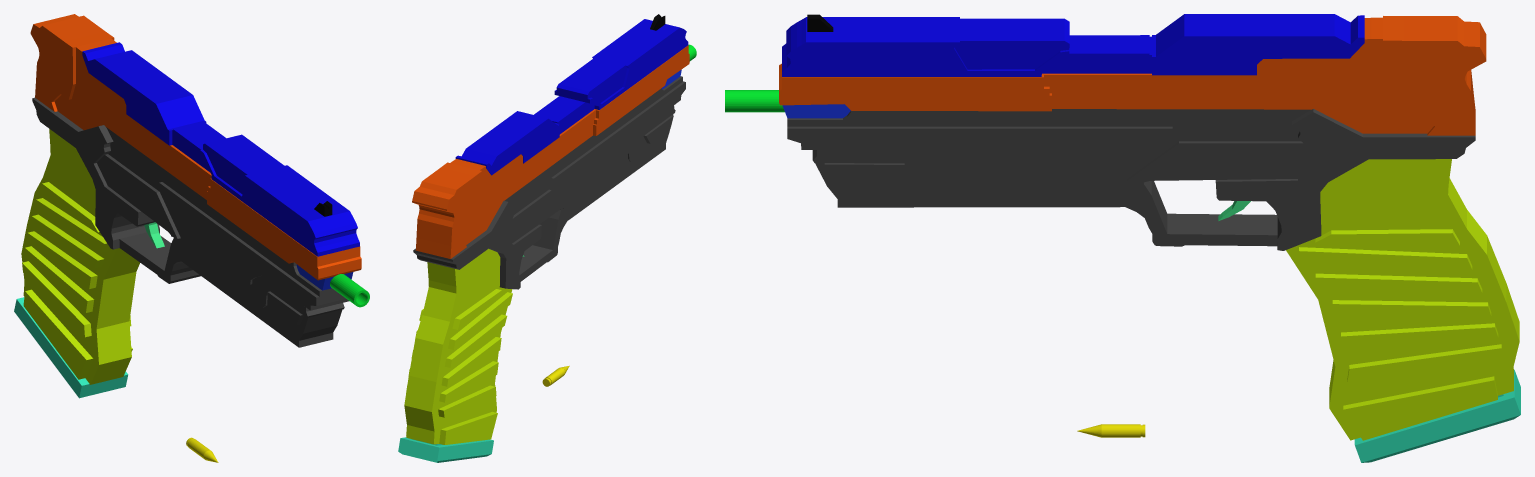
Rendered from LP4 Standard.fbx.
3 views of the same model, side by side, from view 1: azimuth 30°, elevation 25°; view 2: azimuth 150°, elevation 25°; view 3: azimuth 270°, elevation 25° (orthographic). The views are drawn at different scales.
Visible parts, largest first — view 1: Ammo Hand, Prostokąt.001, Bullet; view 2: Ammo Hand, Prostokąt.001; view 3: Ammo Hand, Prostokąt.001, Bullet.
Boxes of the visible parts, x1,y1,x2,y2 form: Ammo Hand: [21, 14, 369, 384]; Prostokąt.001: [14, 297, 128, 398]; Bullet: [186, 437, 218, 462]; Ammo Hand: [404, 14, 696, 444]; Prostokąt.001: [398, 437, 493, 462]; Ammo Hand: [725, 14, 1519, 440]; Prostokąt.001: [1354, 369, 1520, 462]; Bullet: [1077, 424, 1145, 437].
Size of the model in its own units: 7.19 by 51.65 by 86.07.
